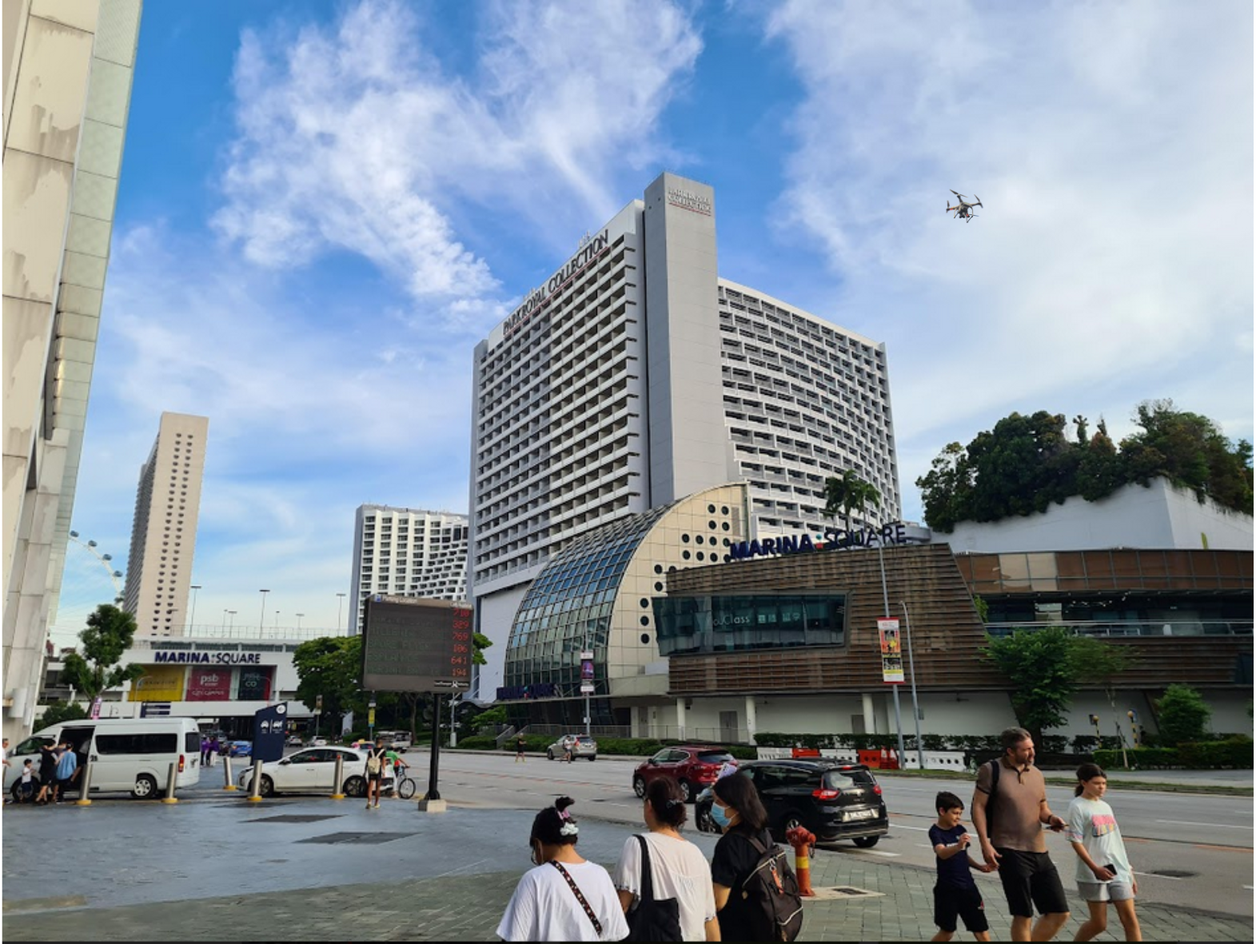drone_other: (943, 187, 984, 225)
